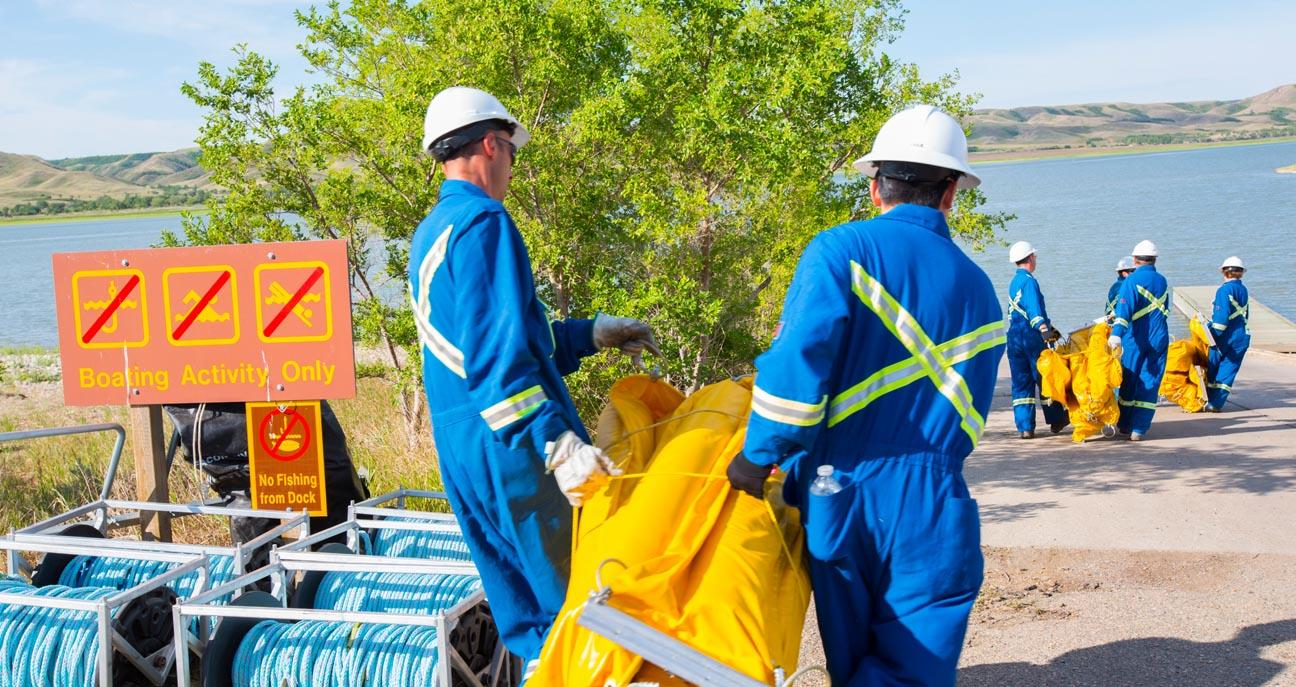helmet: (857, 103, 982, 184), (427, 86, 534, 154), (1012, 242, 1036, 265), (1114, 256, 1140, 276), (1134, 241, 1162, 259), (1223, 257, 1248, 273)
